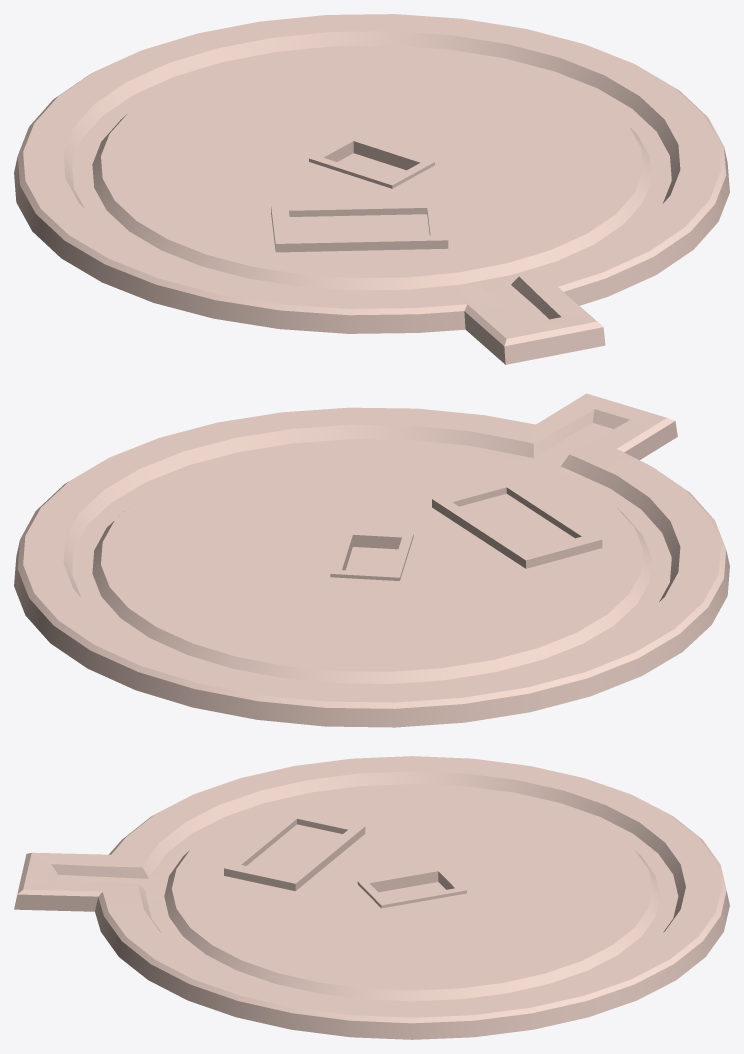
The model's file is Manhole (2).fbx.
3 views of the same model, one above another, from view 1: azimuth 30°, elevation 25°; view 2: azimuth 150°, elevation 25°; view 3: azimuth 270°, elevation 25° (orthographic). The views are drawn at different scales.
Visible parts, largest first — view 1: Manhole 2; view 2: Manhole 2; view 3: Manhole 2.
Boxes of the visible parts, bbox=[...] form: Manhole 2: bbox=[14, 14, 729, 364]; Manhole 2: bbox=[14, 393, 729, 727]; Manhole 2: bbox=[14, 756, 729, 1039].
Bounding box in the file's own units: 120 × 5.14 × 135.
